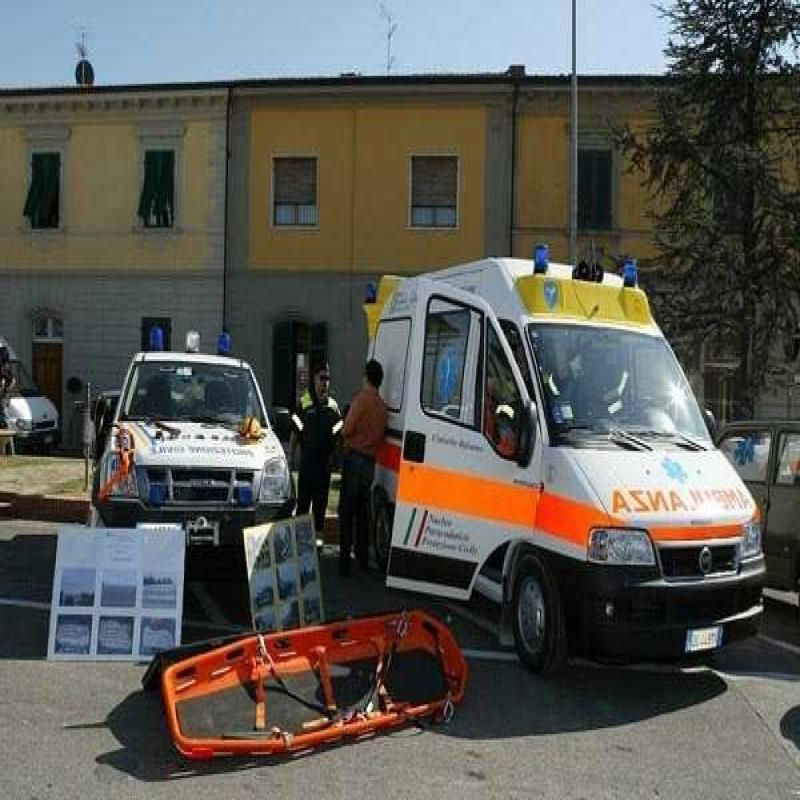AmbulanceSiren: (506, 234, 664, 301)
